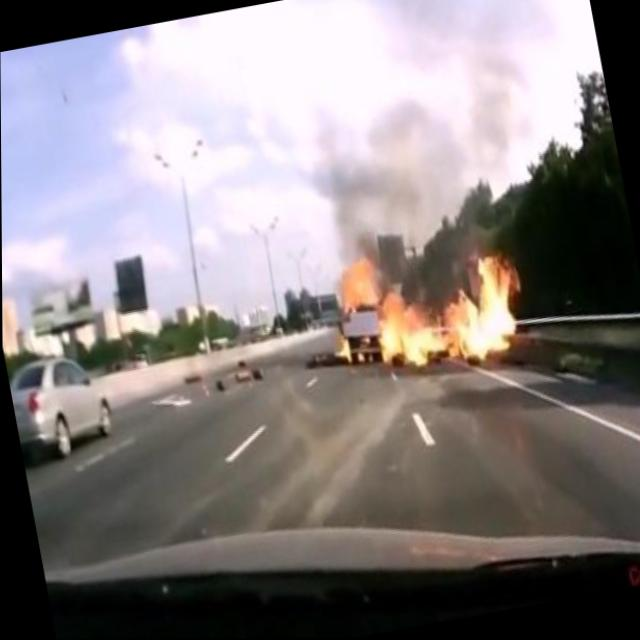fire: (305, 212, 535, 400)
